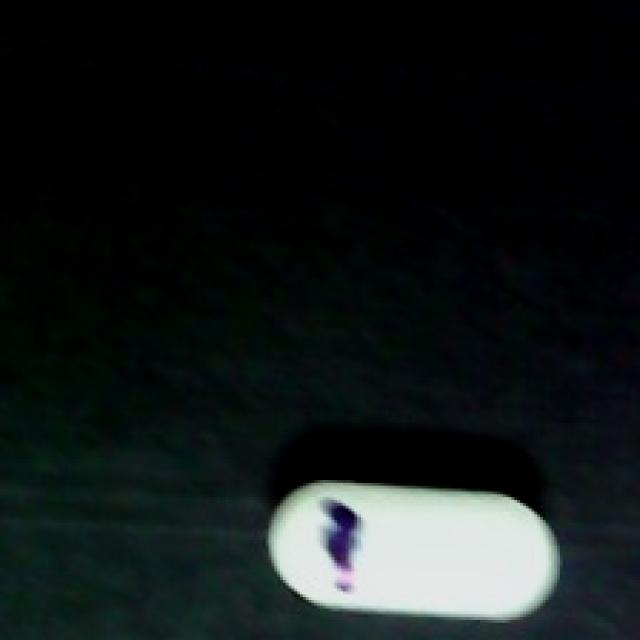defected: (246, 471, 591, 640)
